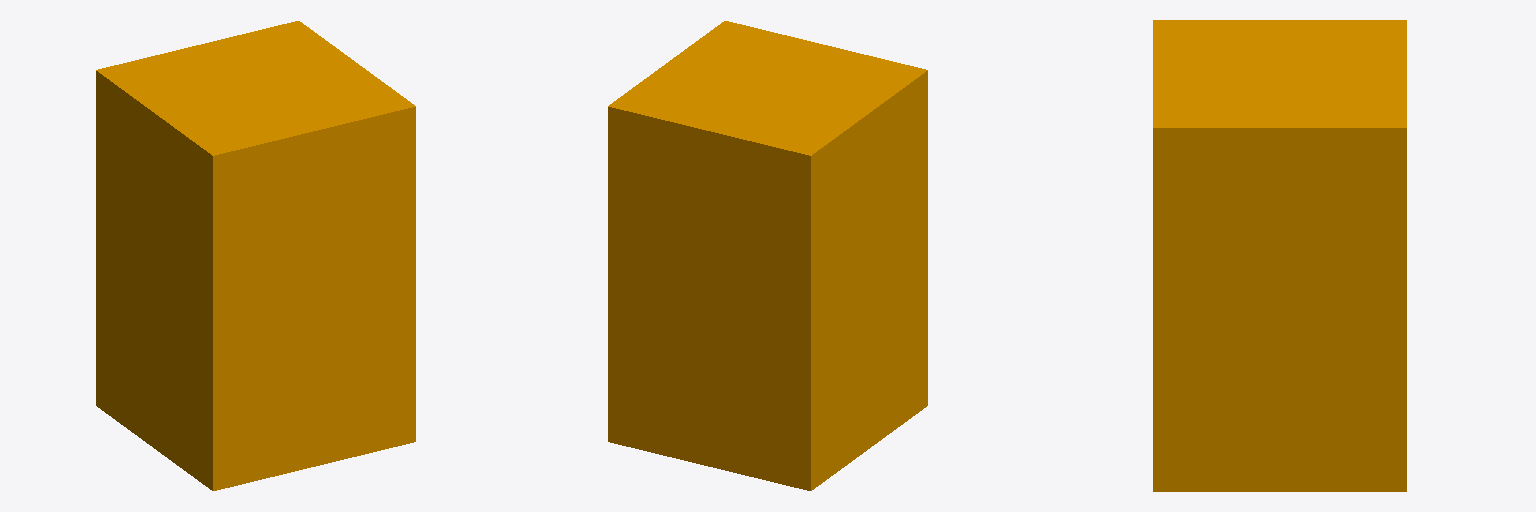
robot.urdf — 2v2_nosensors_cuboid_small:
<?xml version="1.0" ?>
<robot name="2v2_nosensors_cuboid_small">

    <link name="2v2_nosensors_cuboid_small">
        <visual>
            <origin rpy="1.5707963267948966 0 0" xyz="0 0 0"/>
            <geometry>
                <mesh filename="obj_files/2v2_nosensors_cuboid_small.obj" scale="1 1 1"/>
            </geometry>
        </visual>
        <collision>
            <origin rpy="1.5707963267948966 0 0" xyz="0 0 0"/>
            <geometry>
                <mesh filename="obj_files/2v2_nosensors_cuboid_small_collision.obj" scale="1 1 1"/>
            </geometry>
        </collision>
    </link>

</robot>

--- Facts derived from the render (not from the file) ---
Views: 3 orthographic renders of the robot side by side, from view 1: azimuth 30°, elevation 25°; view 2: azimuth 150°, elevation 25°; view 3: azimuth 270°, elevation 25°.
Model 2v2_nosensors_cuboid_small with 1 links and 0 joints (none), rooted at 2v2_nosensors_cuboid_small, posed every joint at zero.
Links seen in each view (by area): view 1: 2v2_nosensors_cuboid_small; view 2: 2v2_nosensors_cuboid_small; view 3: 2v2_nosensors_cuboid_small.
Boxes of the visible links, x1=… form: 2v2_nosensors_cuboid_small: x1=96, y1=21, x2=415, y2=490; 2v2_nosensors_cuboid_small: x1=608, y1=21, x2=927, y2=490; 2v2_nosensors_cuboid_small: x1=1153, y1=20, x2=1406, y2=491.
Bounding box of the posed robot: 0.0609 × 0.0609 × 0.096 m (x, y, z).
1 mesh visuals loaded from 1 distinct referenced files (1 OBJ).